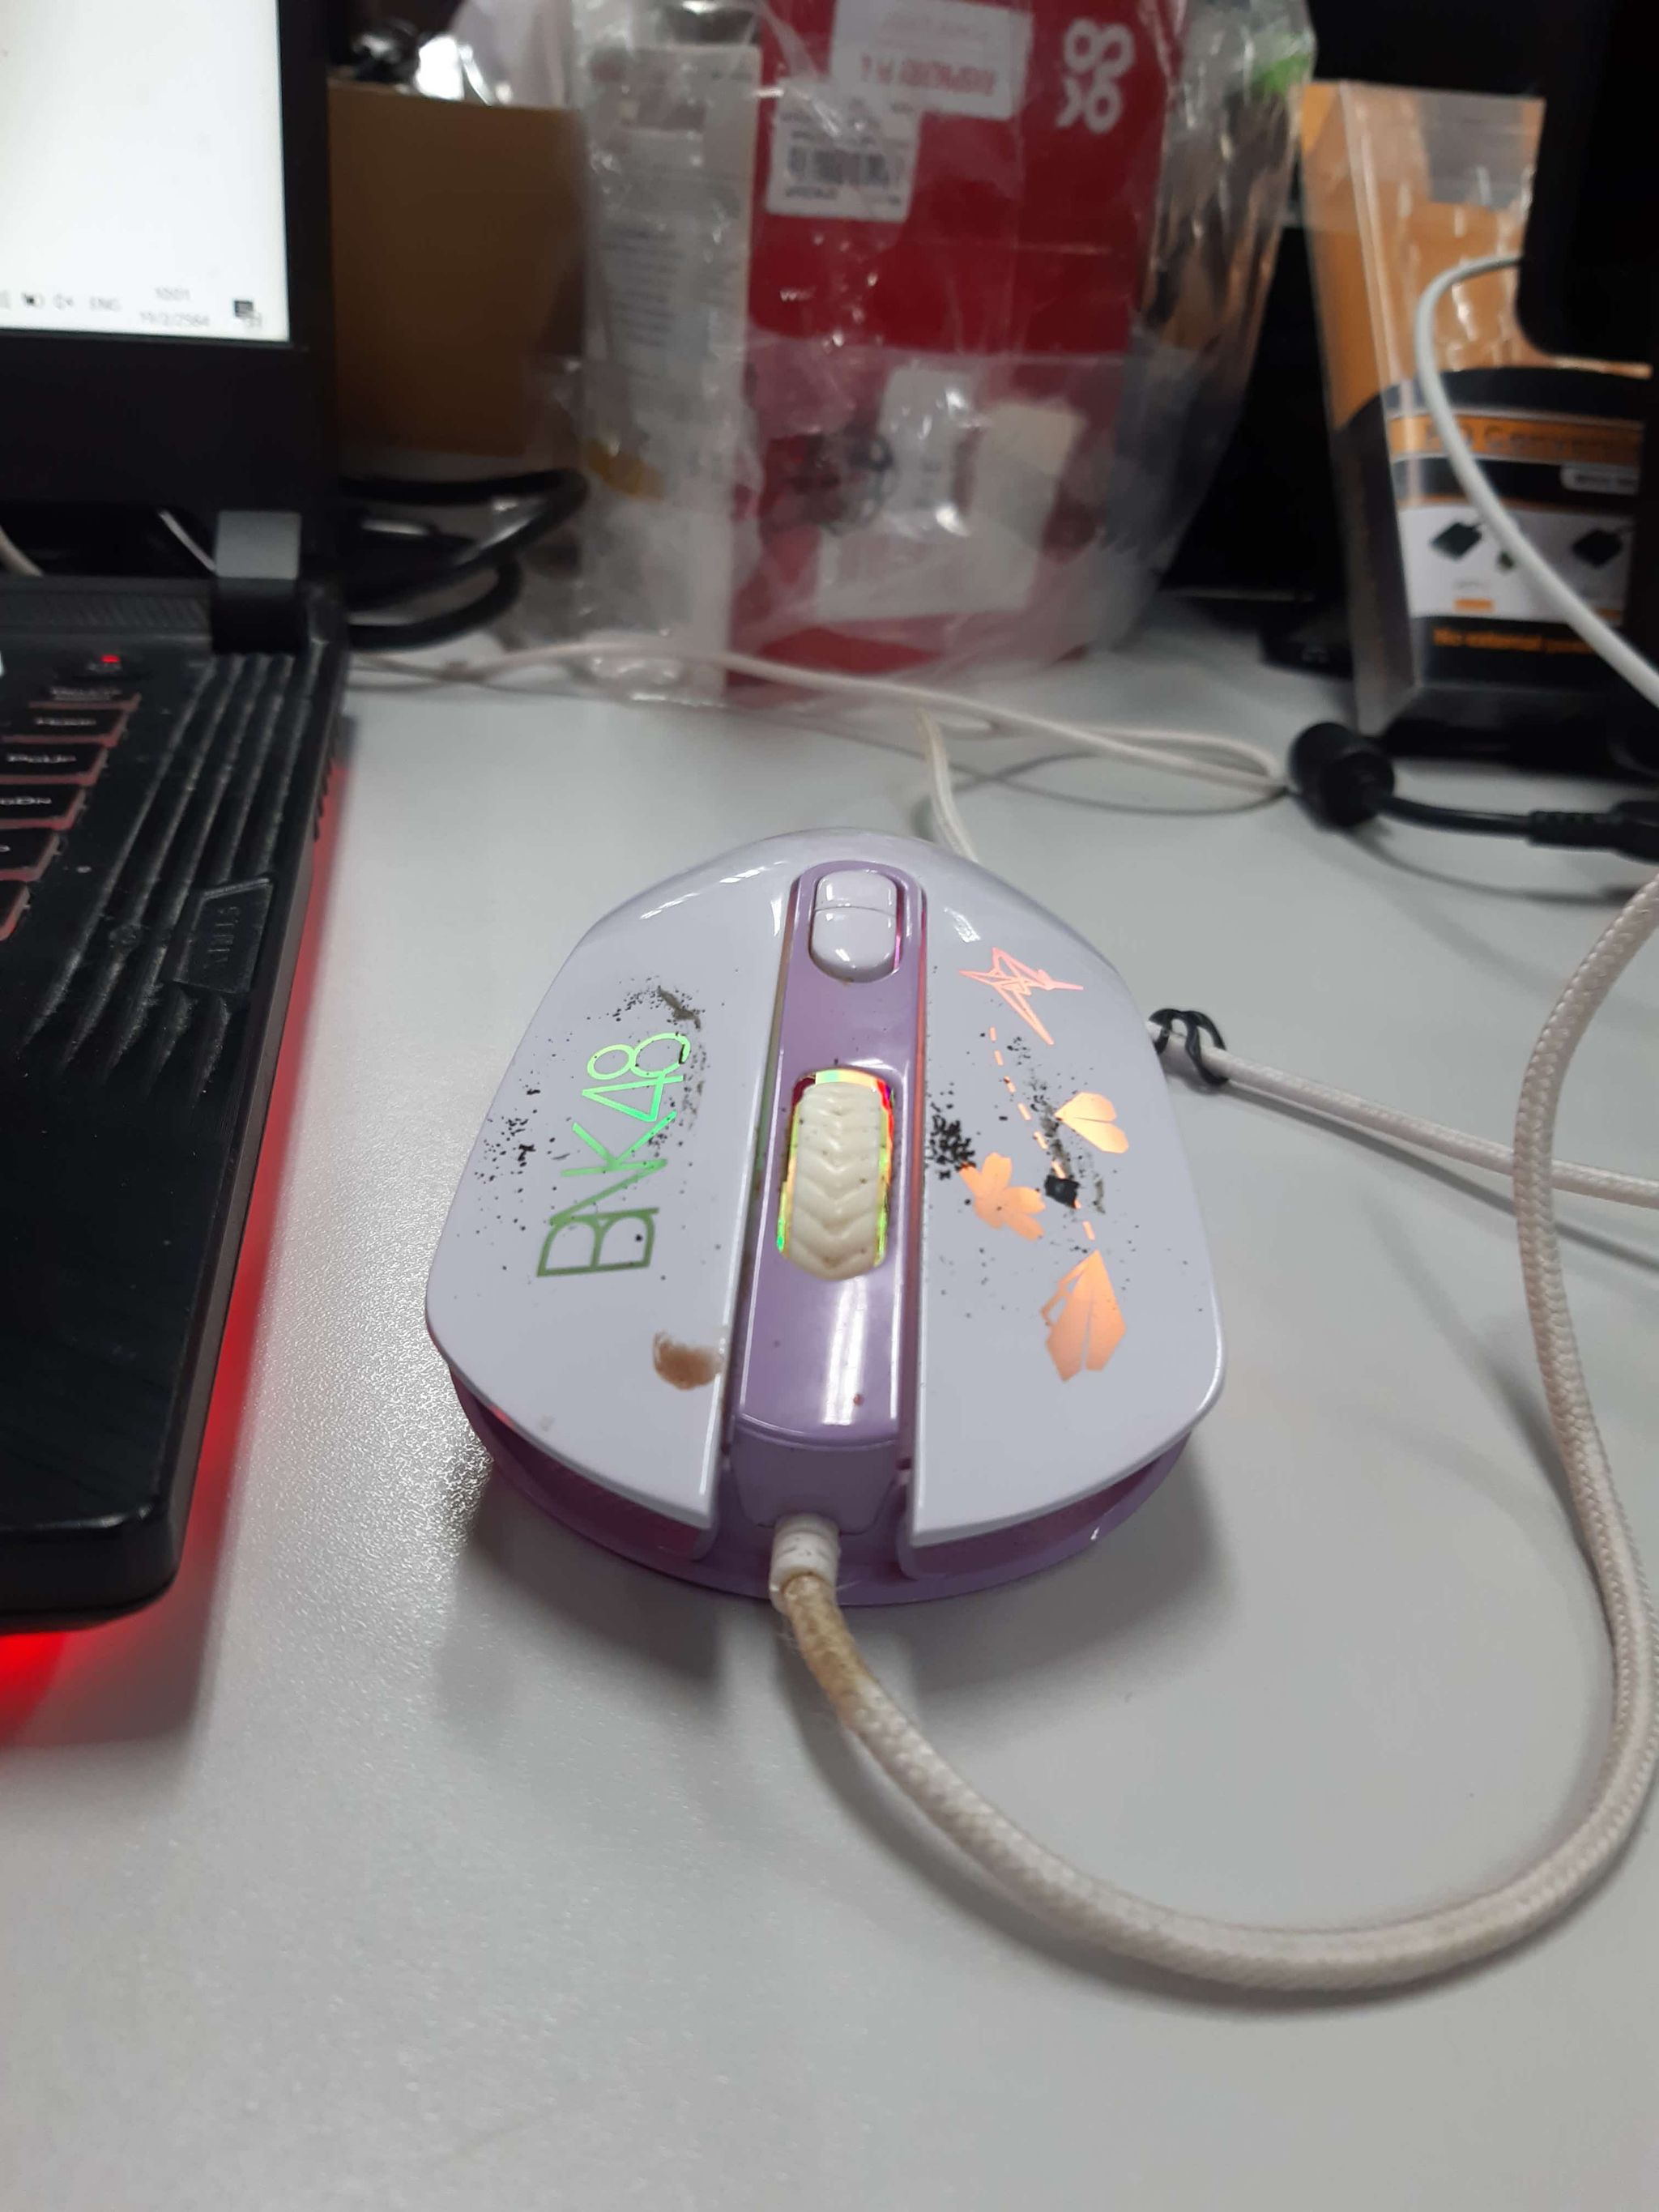mouse: (423, 822, 1243, 1620)
